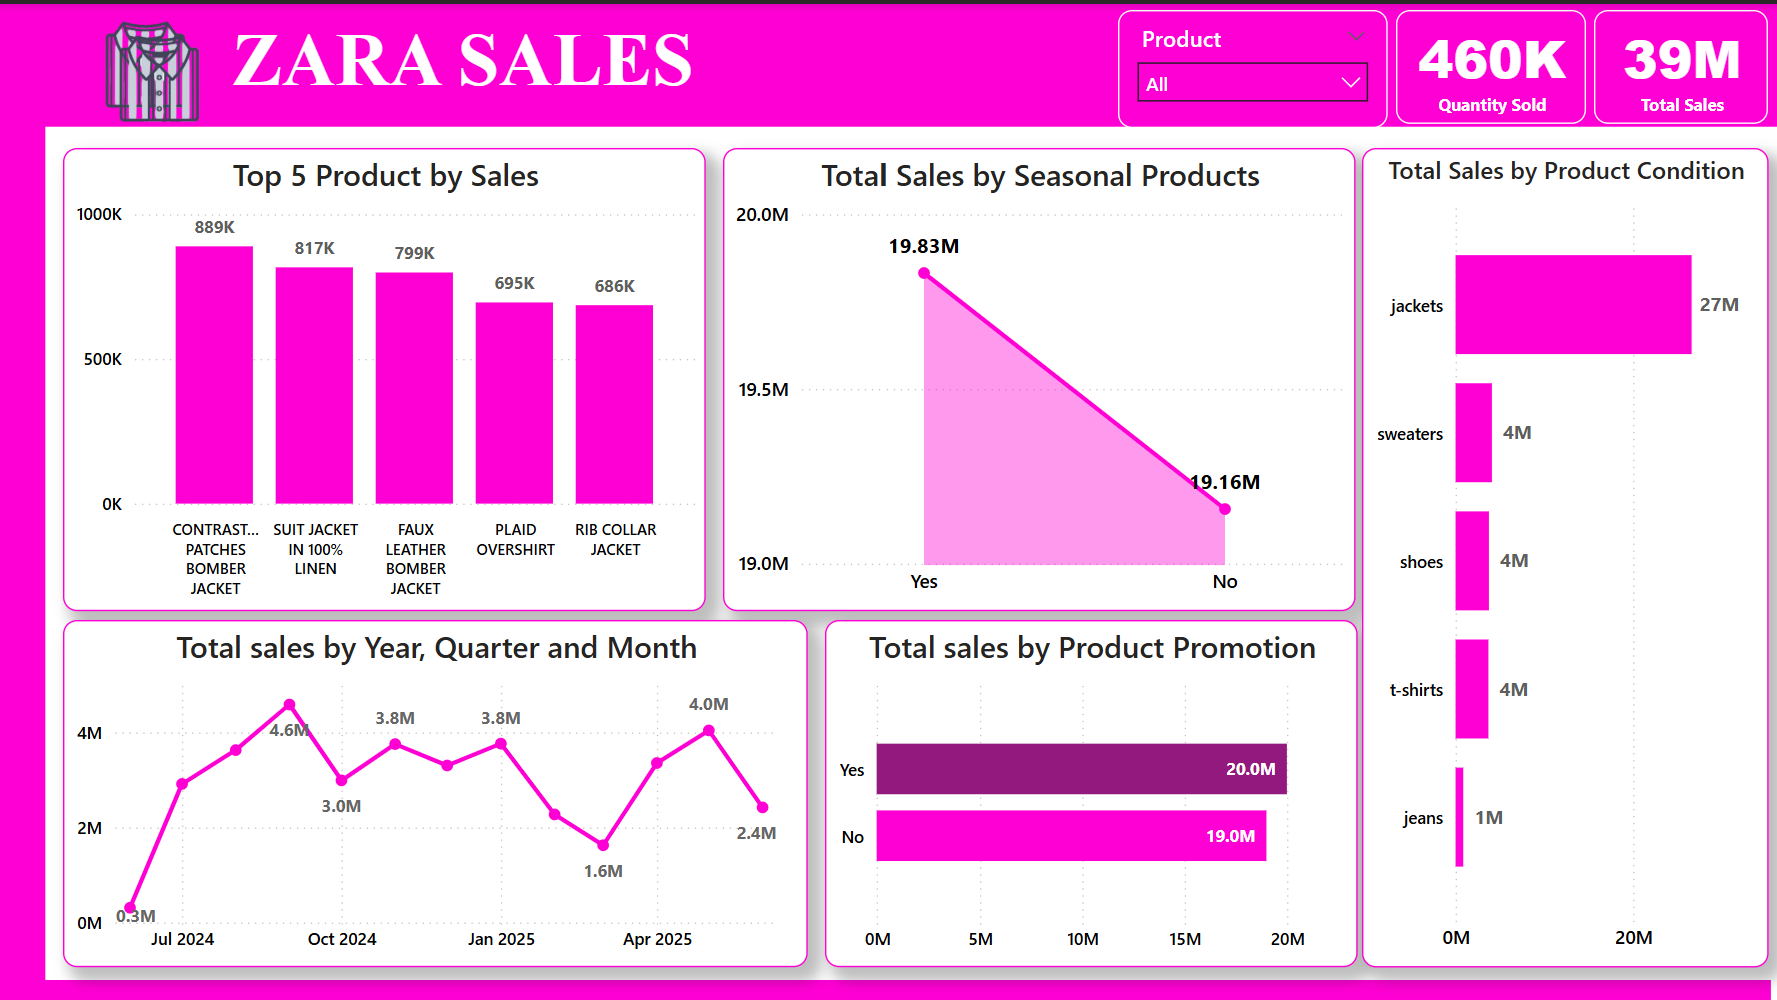

Layout of this report page (visuals, bound fields, positions):
{"tool":"powerbi","page":{"name":"Overview Dashboard","canvas":[1280,720],"ordinal":0},"visuals":[{"type":"shape","box":[0,698.4,1280.2,21.6],"z":0},{"type":"shape","box":[0,1.4,40.3,718.6],"z":1000},{"type":"shape","box":[0,0,1280.2,87.8],"z":2000},{"type":"textbox","box":[168.9,4.3,356.4,78.7],"z":3000},{"type":"card","fields":{"Values":["Sum(zaraaaa(cleaned).total_sales)"]},"box":[1148,4.3,124.5,81.6],"z":4000},{"type":"card","fields":{"Values":["Sum(zaraaaa(cleaned).Quantity_Sold)"]},"box":[1006.3,4.3,136,81.6],"z":5000},{"type":"slicer","fields":{"Values":["zaraaaa(cleaned).Product"]},"box":[807.3,4.3,193.2,84.5],"z":6000},{"type":"clusteredColumnChart","title":"Top 5 Product by Sales","fields":{"Category":["zaraaaa(cleaned).Product"],"Y":["Sum(zaraaaa(cleaned).total_sales)"]},"box":[53.6,102.4,460,331.6],"z":7000},{"type":"areaChart","title":"Total Sales by Seasonal Products","fields":{"Category":["zaraaaa(cleaned).Seasonal"],"Y":["Sum(zaraaaa(cleaned).total_sales)"]},"box":[525,102.4,451.8,331.6],"z":8000},{"type":"lineChart","title":"Total sales by Year, Quarter and Month","fields":{"Y":["Sum(zaraaaa(cleaned).total_sales)"],"Category":["zaraaaa(cleaned).Orderdate.Variation.Date Hierarchy.Year","zaraaaa(cleaned).Orderdate.Variation.Date Hierarchy.Quarter","zaraaaa(cleaned).Orderdate.Variation.Date Hierarchy.Month"]},"box":[53.6,440.5,533.1,248.7],"z":9000},{"type":"clusteredBarChart","title":"Total sales by Product Promotion","fields":{"Category":["zaraaaa(cleaned).product_promotion"],"Y":["Sum(zaraaaa(cleaned).total_sales)"]},"box":[598.1,440.5,380.3,248.7],"z":10000},{"type":"clusteredBarChart","title":"Total Sales by Product Condition","fields":{"Category":["zaraaaa(cleaned).product_condition"],"Y":["Sum(zaraaaa(cleaned).total_sales)"]},"box":[981.7,102.4,290.9,586.7],"z":11000},{"type":"image","box":[22.8,1.6,173.9,86.1],"z":12000},{"type":"image","box":[32.8,11.6,173.9,86.1],"z":13000}]}

Visuals, with their boxes in screenshot pixels (x1, y1, x2, y2), scaled from the page's 1280x720 canvas onto the 1777x1000 screenshot:
shape: bbox(0, 970, 1776, 999)
shape: bbox(0, 2, 56, 999)
shape: bbox(0, 0, 1776, 122)
textbox: bbox(234, 6, 729, 115)
card - Sum(zaraaaa(cleaned).total_sales): bbox(1594, 6, 1767, 119)
card - Sum(zaraaaa(cleaned).Quantity_Sold): bbox(1397, 6, 1586, 119)
slicer - zaraaaa(cleaned).Product: bbox(1121, 6, 1389, 123)
"Top 5 Product by Sales" clusteredColumnChart: bbox(74, 142, 713, 603)
"Total Sales by Seasonal Products" areaChart: bbox(729, 142, 1356, 603)
"Total sales by Year, Quarter and Month" lineChart: bbox(74, 612, 815, 957)
"Total sales by Product Promotion" clusteredBarChart: bbox(830, 612, 1358, 957)
"Total Sales by Product Condition" clusteredBarChart: bbox(1363, 142, 1767, 957)
image: bbox(32, 2, 273, 122)
image: bbox(46, 16, 287, 136)
